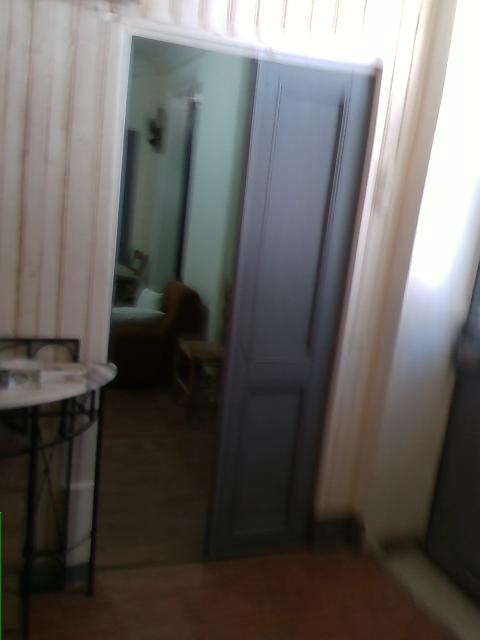door: (202, 58, 379, 560)
